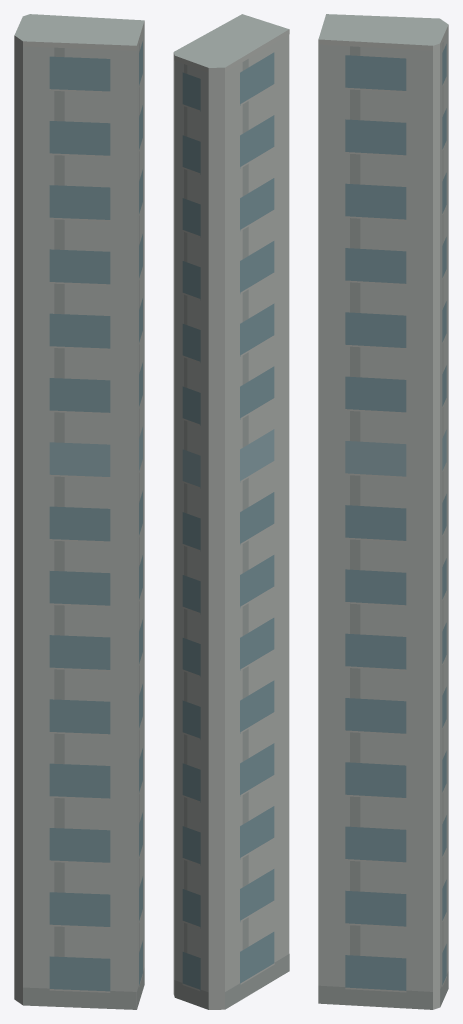
Rendered from survey-upis-32649071.glb.
3 renders of one model, left to right at view 1: azimuth 90°, elevation 25°; view 2: azimuth 150°, elevation 25°; view 3: azimuth 270°, elevation 25°, orthographic. The views are drawn at different scales.
Visible parts, largest first — view 1: survey-upis-32649071.tmp; view 2: survey-upis-32649071.tmp; view 3: survey-upis-32649071.tmp.
Boxes of the visible parts, x1,y1,x2,y2 form: survey-upis-32649071.tmp: (14, 14, 144, 1009); survey-upis-32649071.tmp: (173, 14, 289, 1009); survey-upis-32649071.tmp: (318, 14, 448, 1009).
Bounding box in the file's own units: 3.24 × 45.75 × 5.61.
